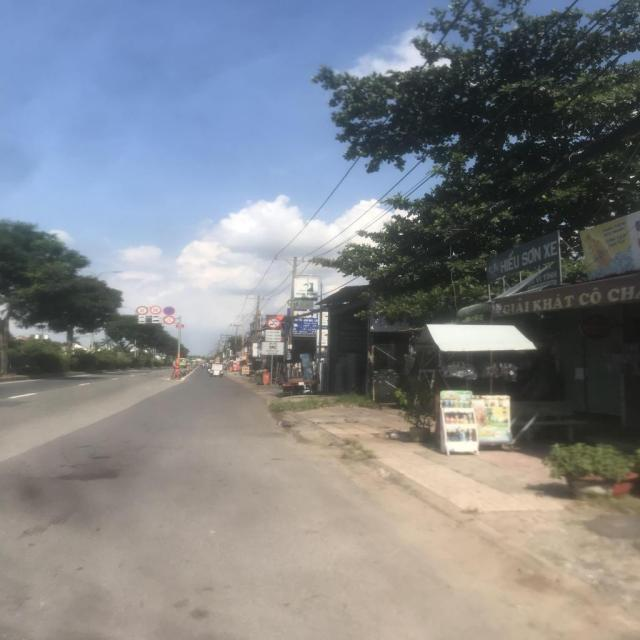107-cam-oto-khach-va-oto-tai: (266, 318, 282, 330)
